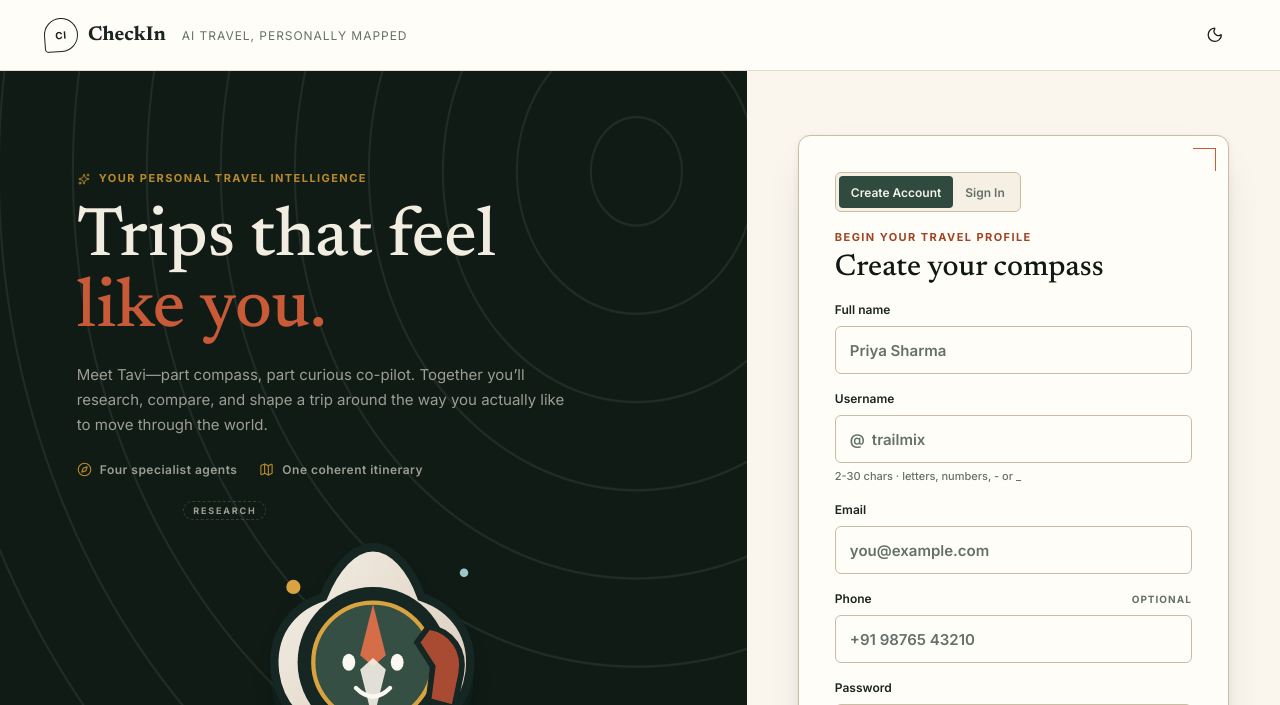
Test: keeps the entered email when switching modes
In the field labelled "Email": coordinates (1013, 550) [835,526,1192,574], type "sam@example.com"
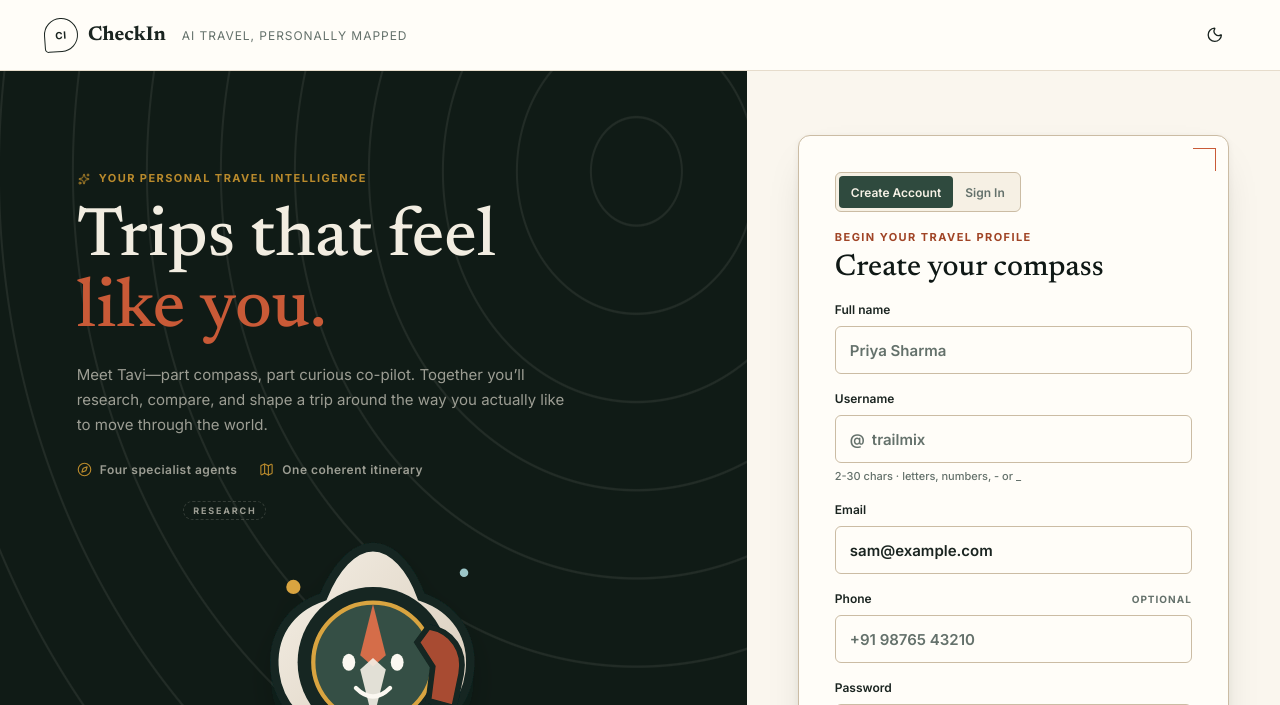
Click the button "Sign in": coordinates (985, 192) [953,176,1017,208]
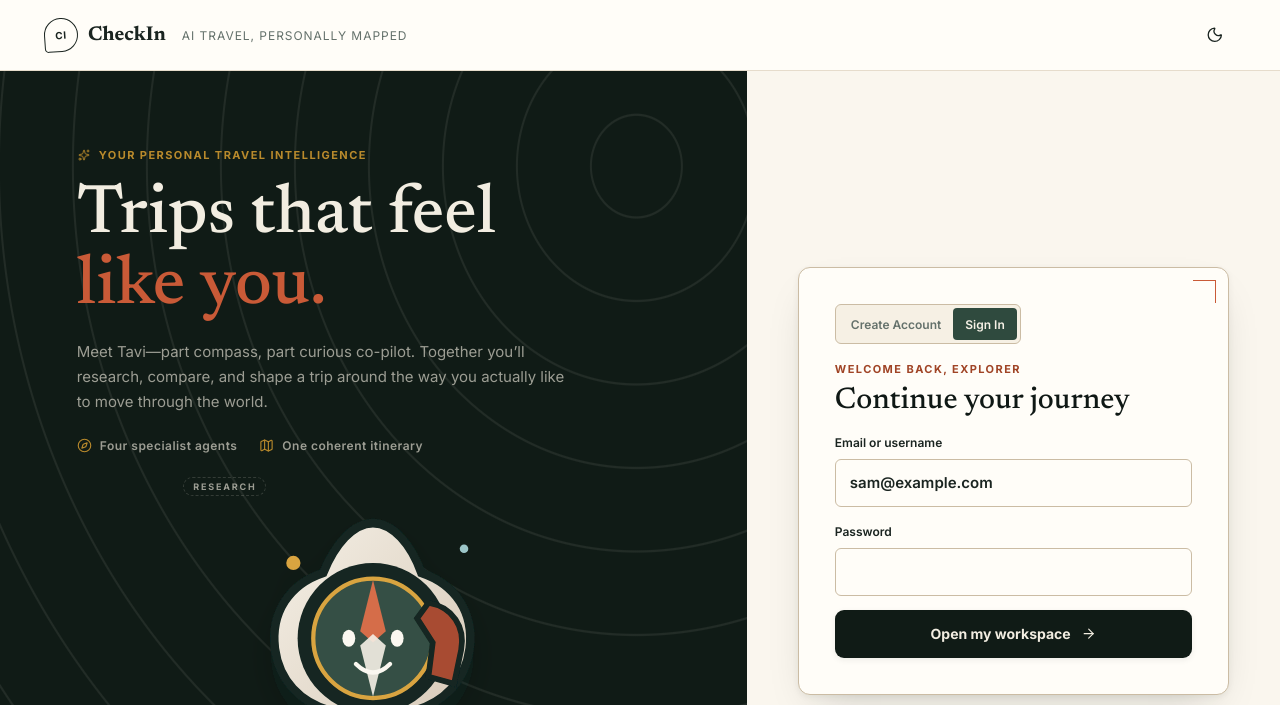
Click the button "Create account": coordinates (896, 324) [839,308,953,340]
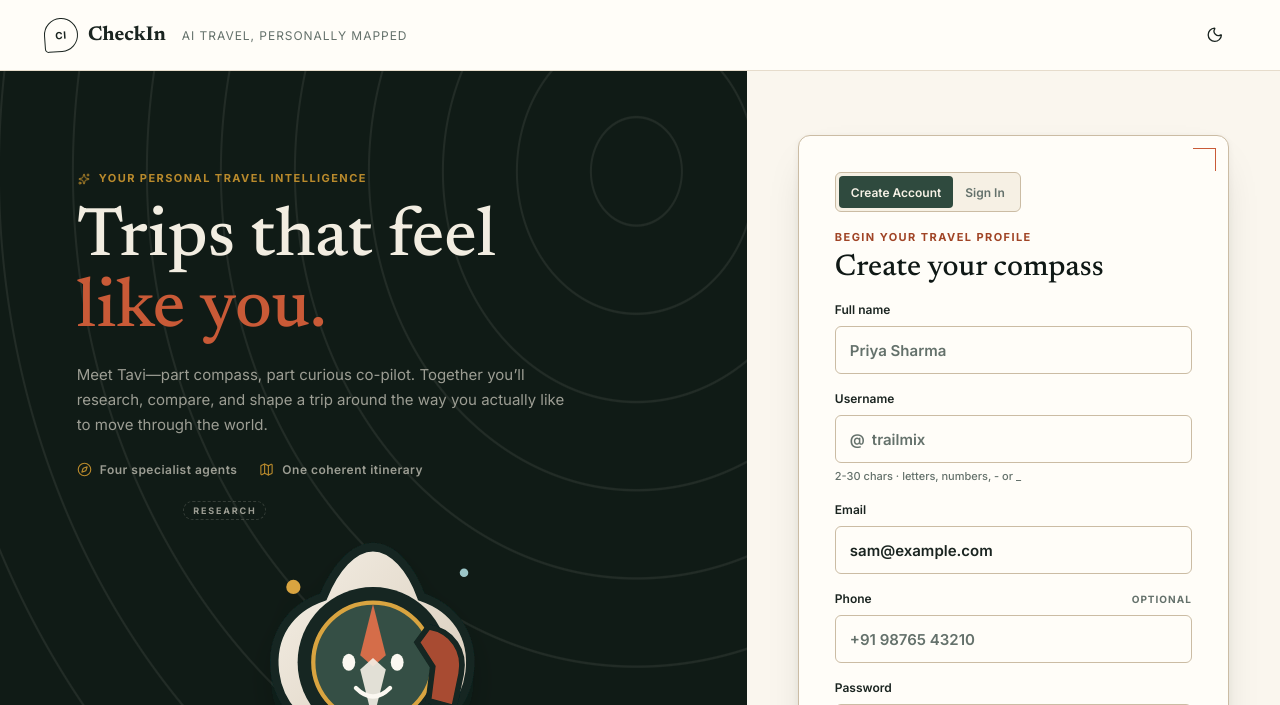
Expected: the field labelled "Email" holds "sam@example.com", [835,526,1192,574]
